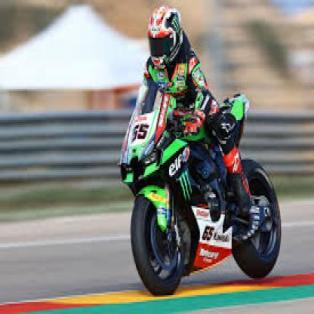Motocicleta: (112, 98, 285, 304)
